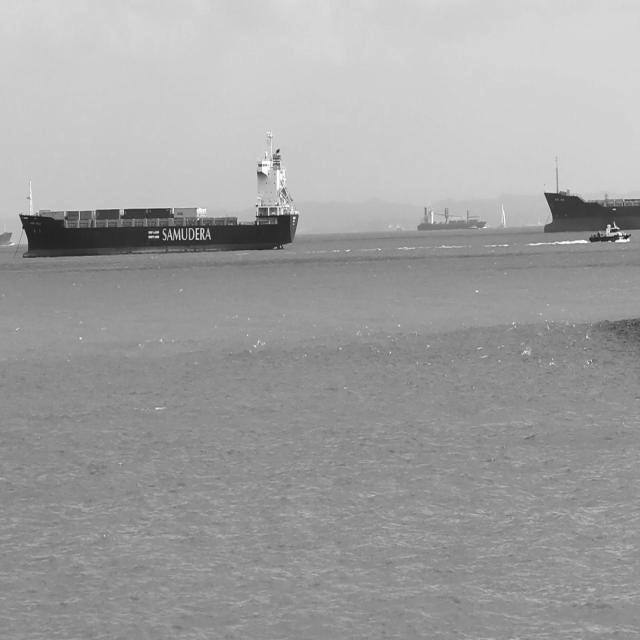ship: (18, 130, 300, 259), (542, 156, 640, 234), (416, 205, 486, 232), (588, 220, 633, 243), (0, 229, 13, 249), (499, 204, 507, 230), (468, 223, 479, 231)
